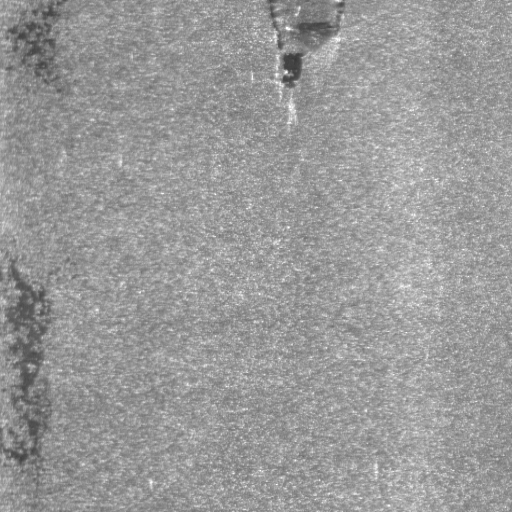aokeng: (265, 1, 348, 89)
